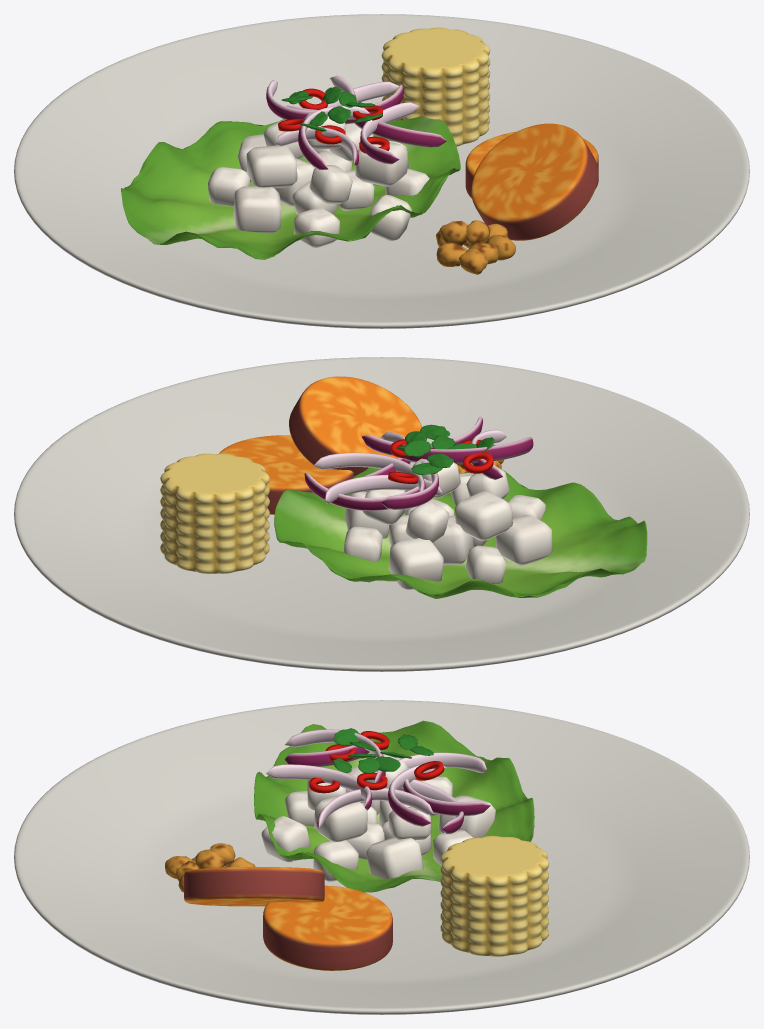
The model's file is paso-5.glb.
The picture shows the model from 3 angles, top to bottom: view 1: azimuth 30°, elevation 25°; view 2: azimuth 150°, elevation 25°; view 3: azimuth 270°, elevation 25°; orthographic projection.
Visible parts, largest first — view 1: paso-5-0, paso-5-1, paso-5-43, paso-5-44, paso-5-6, paso-5-16, paso-5-18, paso-5-17, paso-5-7, paso-5-8, paso-5-22, paso-5-5 (+13 smaller); view 2: paso-5-0, paso-5-1, paso-5-44, paso-5-43, paso-5-42, paso-5-16, paso-5-6, paso-5-4, paso-5-26, paso-5-15, paso-5-25, paso-5-20 (+12 smaller); view 3: paso-5-0, paso-5-44, paso-5-1, paso-5-42, paso-5-43, paso-5-2, paso-5-18, paso-5-22, paso-5-8, paso-5-23, paso-5-9, paso-5-21 (+10 smaller).
Part boxes in pixels (left/top/right/bottom): paso-5-0: left=14, top=14, right=749, bottom=328; paso-5-1: left=121, top=116, right=460, bottom=259; paso-5-43: left=471, top=123, right=598, bottom=240; paso-5-44: left=381, top=27, right=490, bottom=146; paso-5-6: left=233, top=186, right=281, bottom=232; paso-5-16: left=246, top=145, right=297, bottom=188; paso-5-18: left=355, top=142, right=407, bottom=186; paso-5-17: left=309, top=165, right=352, bottom=203; paso-5-7: left=294, top=207, right=339, bottom=248; paso-5-8: left=369, top=195, right=412, bottom=241; paso-5-22: left=360, top=102, right=419, bottom=164; paso-5-5: left=208, top=167, right=250, bottom=206; paso-5-0: left=14, top=357, right=749, bottom=671; paso-5-1: left=274, top=467, right=647, bottom=598; paso-5-44: left=160, top=453, right=269, bottom=573; paso-5-43: left=289, top=376, right=421, bottom=476; paso-5-42: left=219, top=435, right=354, bottom=514; paso-5-16: left=455, top=491, right=512, bottom=540; paso-5-6: left=496, top=515, right=552, bottom=565; paso-5-4: left=388, top=538, right=443, bottom=590; paso-5-26: left=313, top=452, right=425, bottom=491; paso-5-15: left=405, top=501, right=449, bottom=542; paso-5-25: left=402, top=437, right=533, bottom=463; paso-5-20: left=324, top=474, right=442, bottom=503; paso-5-0: left=14, top=700, right=749, bottom=1014; paso-5-44: left=440, top=835, right=549, bottom=956; paso-5-1: left=254, top=720, right=534, bottom=892; paso-5-42: left=263, top=885, right=392, bottom=970; paso-5-43: left=184, top=867, right=324, bottom=906; paso-5-2: left=366, top=837, right=423, bottom=879; paso-5-18: left=314, top=795, right=367, bottom=841; paso-5-22: left=266, top=764, right=372, bottom=810; paso-5-8: left=261, top=816, right=310, bottom=862; paso-5-23: left=317, top=788, right=433, bottom=828; paso-5-9: left=313, top=840, right=358, bottom=882; paso-5-21: left=398, top=752, right=486, bottom=773.
Size of the model in its own units: 0.3 by 0.056 by 0.3.
